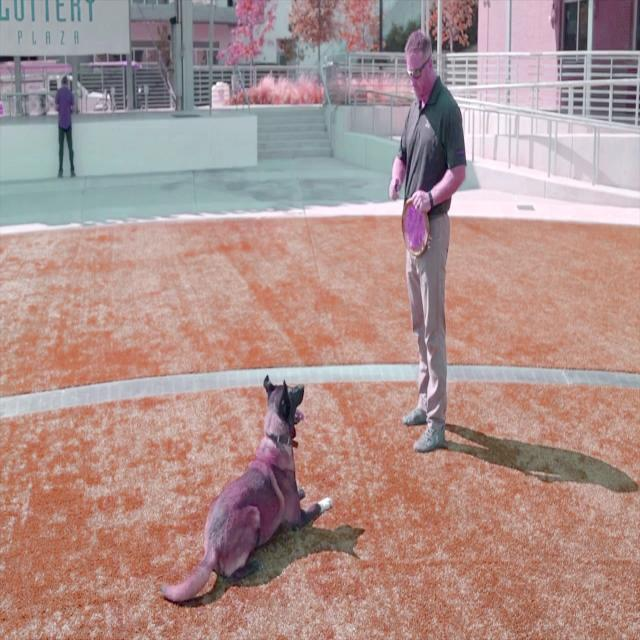Unleashed_Dog: (158, 234, 440, 606)
